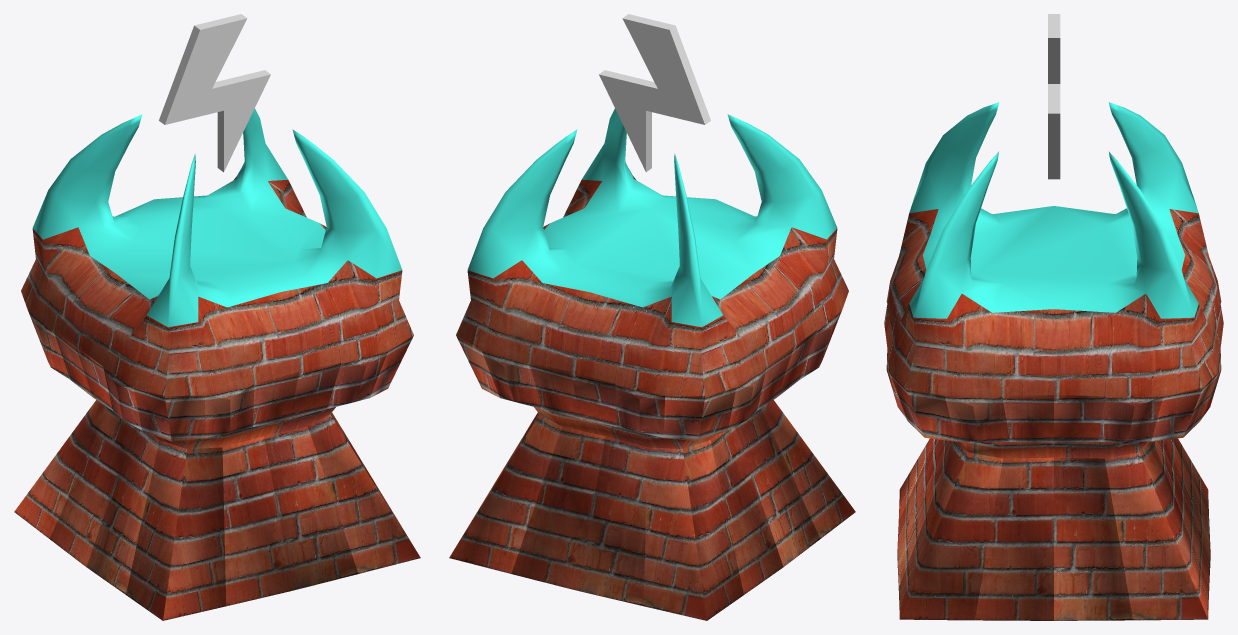
File: 發電廠.FBX
3 renders of one model, left to right at view 1: azimuth 30°, elevation 25°; view 2: azimuth 150°, elevation 25°; view 3: azimuth 270°, elevation 25°, orthographic. The views are drawn at different scales.
Parts seen in each view (by area): view 1: 輔助塔下, 電力; view 2: 輔助塔下, 電力; view 3: 輔助塔下, 電力.
Part boxes in pixels (left/top/right/bottom): 輔助塔下: left=14, top=108, right=420, bottom=620; 電力: left=159, top=14, right=270, bottom=172; 輔助塔下: left=449, top=108, right=855, bottom=620; 電力: left=599, top=14, right=710, bottom=172; 輔助塔下: left=884, top=102, right=1223, bottom=620; 電力: left=1048, top=14, right=1060, bottom=179.
Bounding box in the file's own units: 46.16 × 79.61 × 46.17.
Materials: 2 (1 with a texture image).
